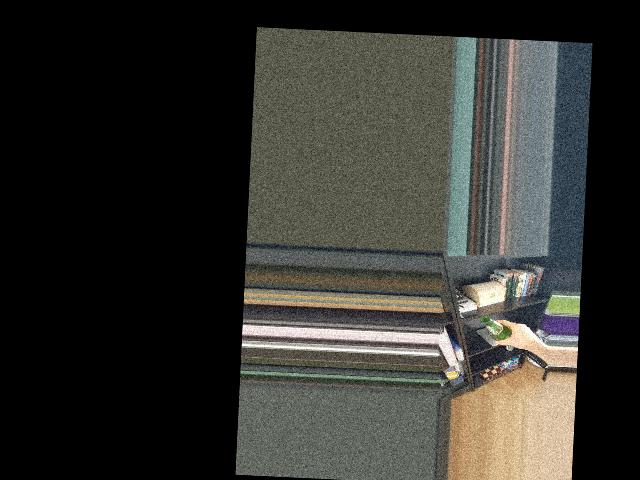beer: (479, 316, 515, 346)
